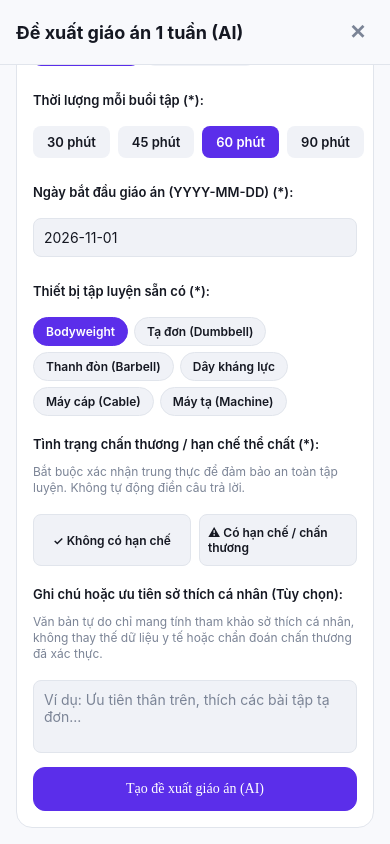
Scenario: AiWorkoutProposalModal › rejects proposal and updates status to REJECTED
(page scrolled)
Click the button with test id "generate-ai-proposal-button" at (195, 789), box [33,767,357,811]
(page scrolled)
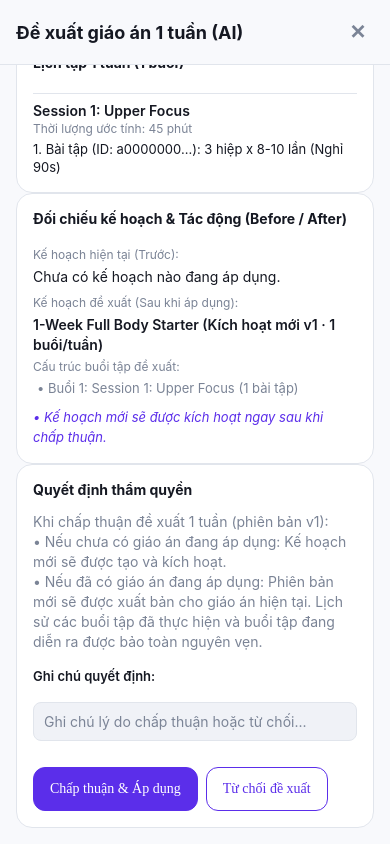
Type "Volume is too high" into the field with test id "ai-decision-note-input" at (195, 722), box [33,702,357,741]
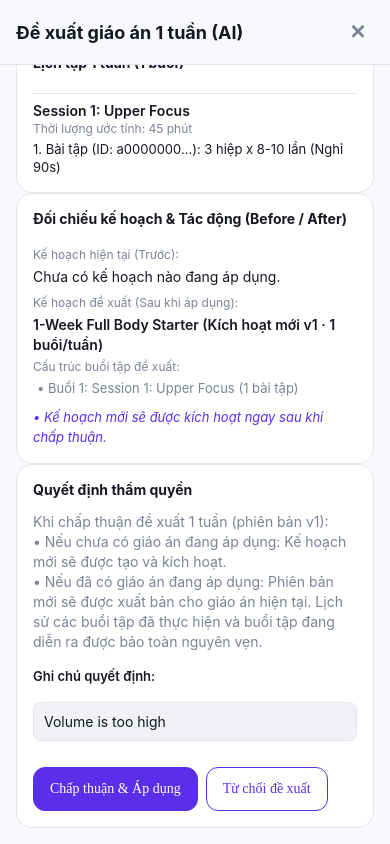
Click the button with test id "reject-ai-proposal-button" at (267, 789), box [206,767,328,811]
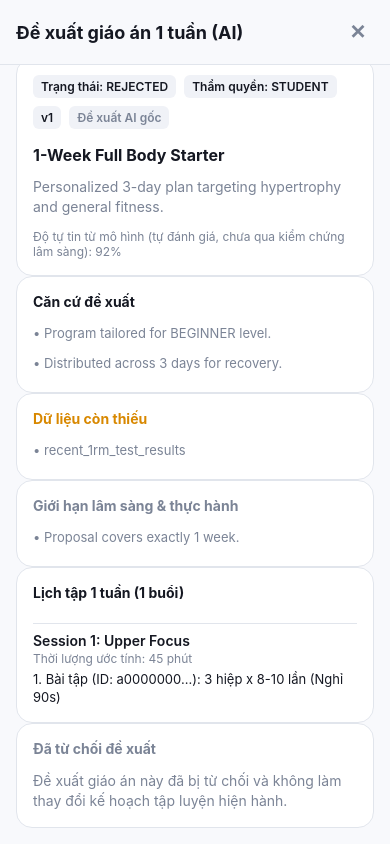
expect the element with test id "ai-proposal-rejected-notice" is shown: met, box [16,723,374,828]
